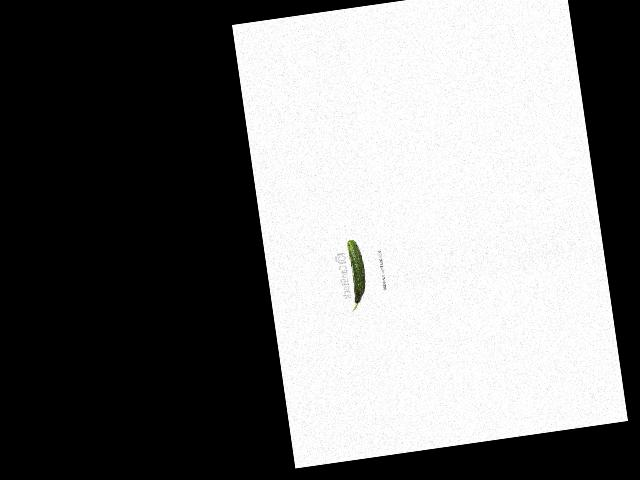cucumber: (343, 239, 370, 311)
